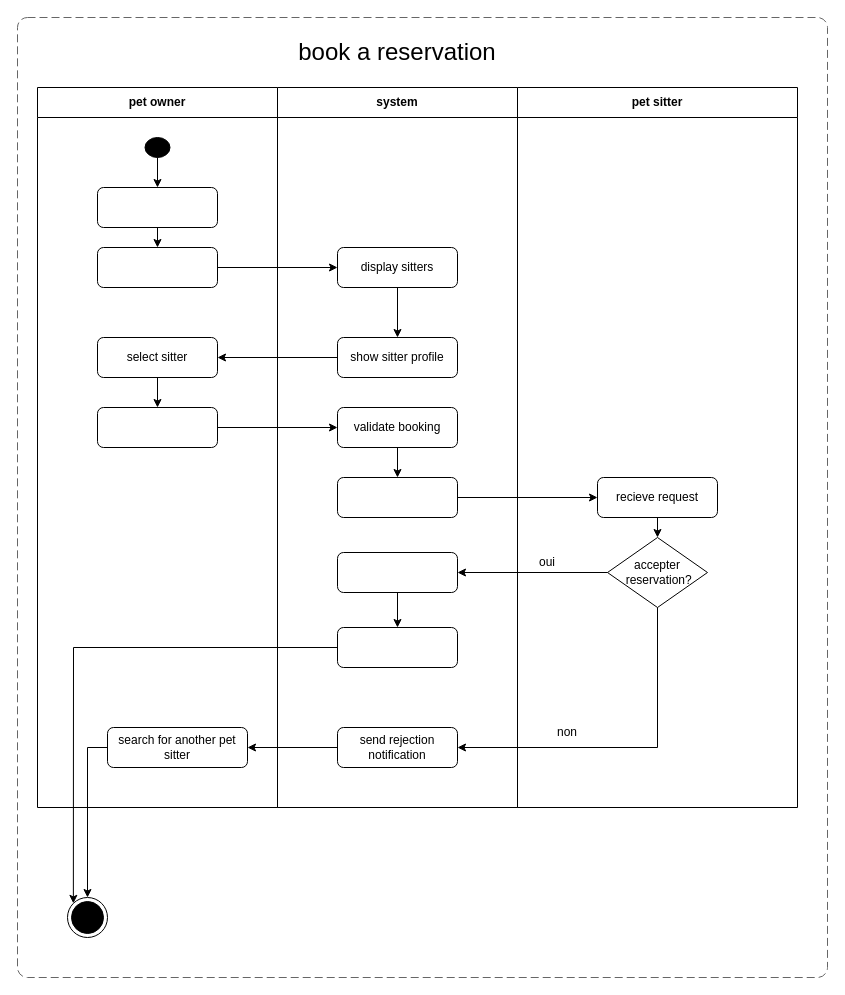
Image size: 845x995. Some labels were removed from this diagram. Here are the shapes that lost their labels. From the top down, the centre of each, then its label:
At (157,207): "login".
At (157,267): "search for sitters".
At (157,427): "enter booking details".
At (397,497): "submit request".
At (397,572): "create reservation".
At (397,647): "send acceptance notification".
